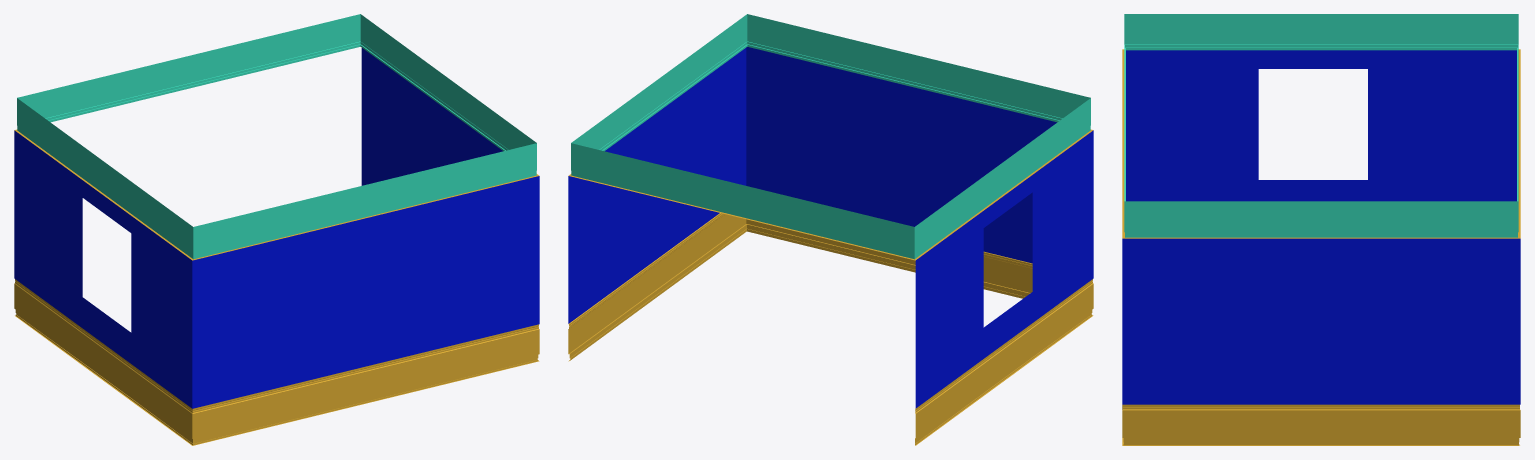
Rendered from TapestryWall_mdl.fbx.
3 views of the same model, side by side, from view 1: azimuth 30°, elevation 25°; view 2: azimuth 150°, elevation 25°; view 3: azimuth 270°, elevation 25° (orthographic). The views are drawn at different scales.
Visible parts, largest first — view 1: Plane.002, Plane.006, Plane.007; view 2: Plane.002, Plane.006, Plane.007; view 3: Plane.002, Plane.006, Plane.007.
Boxes of the visible parts, x1,y1,x2,y2 form: Plane.002: (14,48,539,408); Plane.006: (14,14,539,260); Plane.007: (14,279,539,445); Plane.002: (568,47,1093,408); Plane.006: (568,14,1093,260); Plane.007: (568,213,1093,445); Plane.002: (1122,50,1520,404); Plane.006: (1122,14,1520,238); Plane.007: (1122,404,1520,445).
Size of the model in its own units: 450 by 270 by 400.
